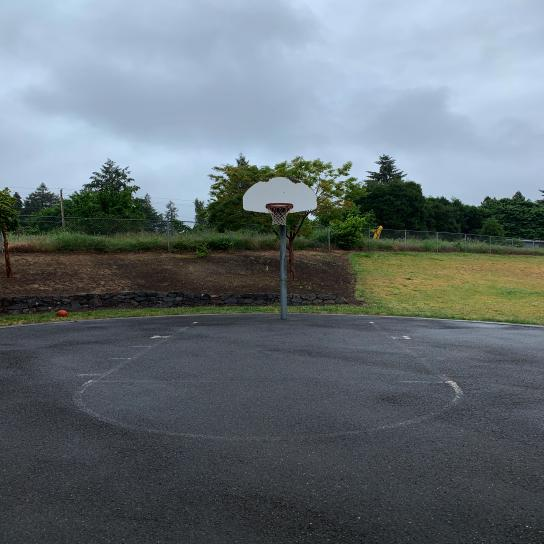basketball-hoop: (264, 202, 294, 226)
